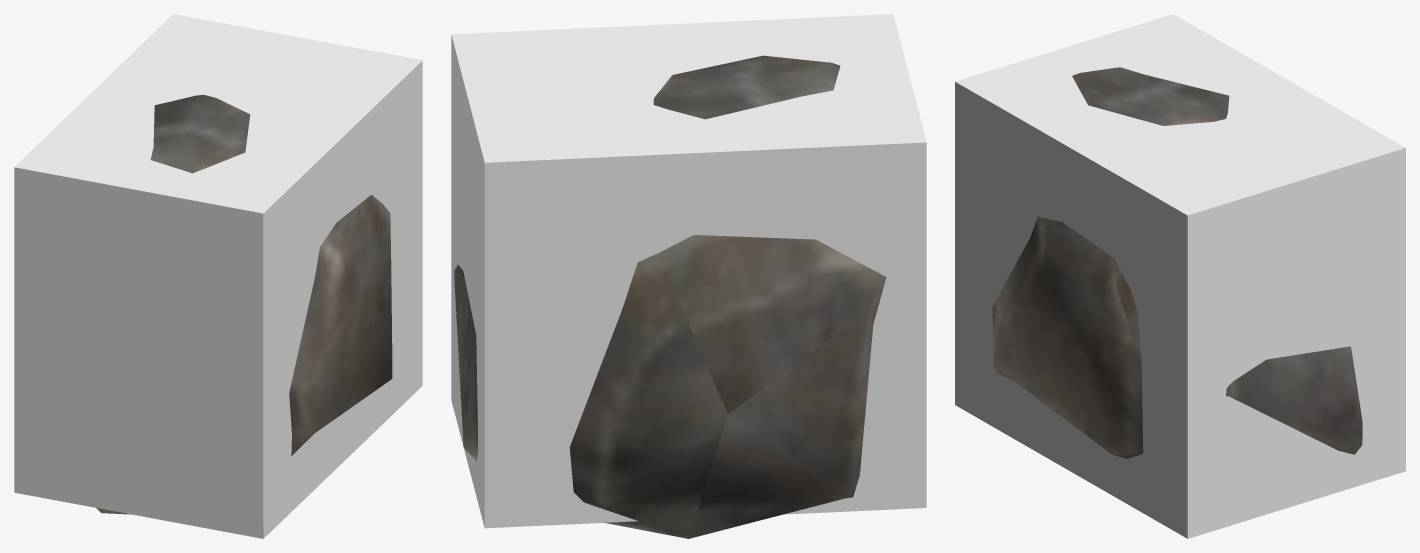
Rendered from Stone.fbx.
The picture shows the model from 3 angles, left to right: view 1: azimuth 30°, elevation 25°; view 2: azimuth 150°, elevation 25°; view 3: azimuth 270°, elevation 25°; orthographic projection. The views are drawn at different scales.
Visible parts, largest first — view 1: Cube__5_, Stone_Cliff_F__1_; view 2: Cube__5_, Stone_Cliff_F__1_; view 3: Cube__5_, Stone_Cliff_F__1_.
Boxes of the visible parts, x1,y1,x2,y2 form: Cube__5_: (14,14,422,538); Stone_Cliff_F__1_: (96,95,392,514); Cube__5_: (451,14,926,528); Stone_Cliff_F__1_: (454,55,886,538); Cube__5_: (955,14,1405,538); Stone_Cliff_F__1_: (992,67,1362,458).
Size of the model in its own units: 0.2138 by 0.1731 by 0.202.
2 materials, 1 textured.
